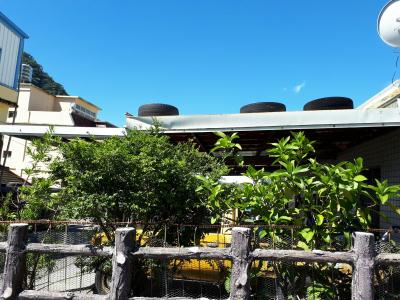tire: (301, 94, 354, 112), (136, 103, 181, 119), (239, 102, 289, 116)
water_tower: (20, 62, 33, 83)
